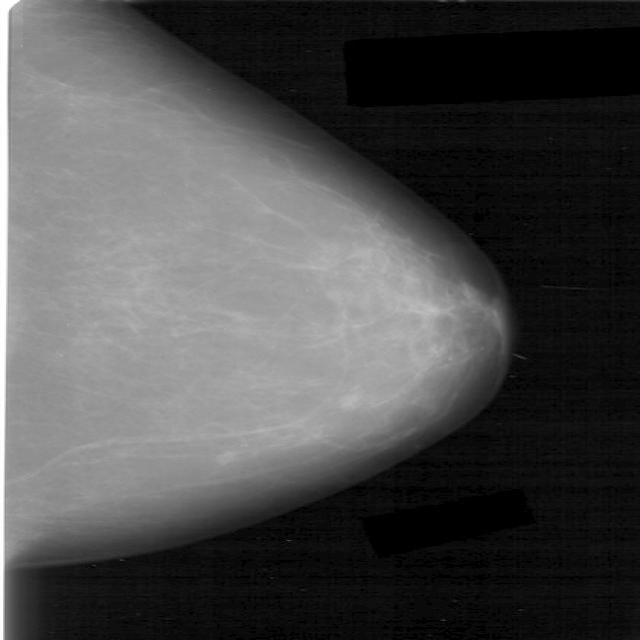tumour: (212, 450, 233, 462)
